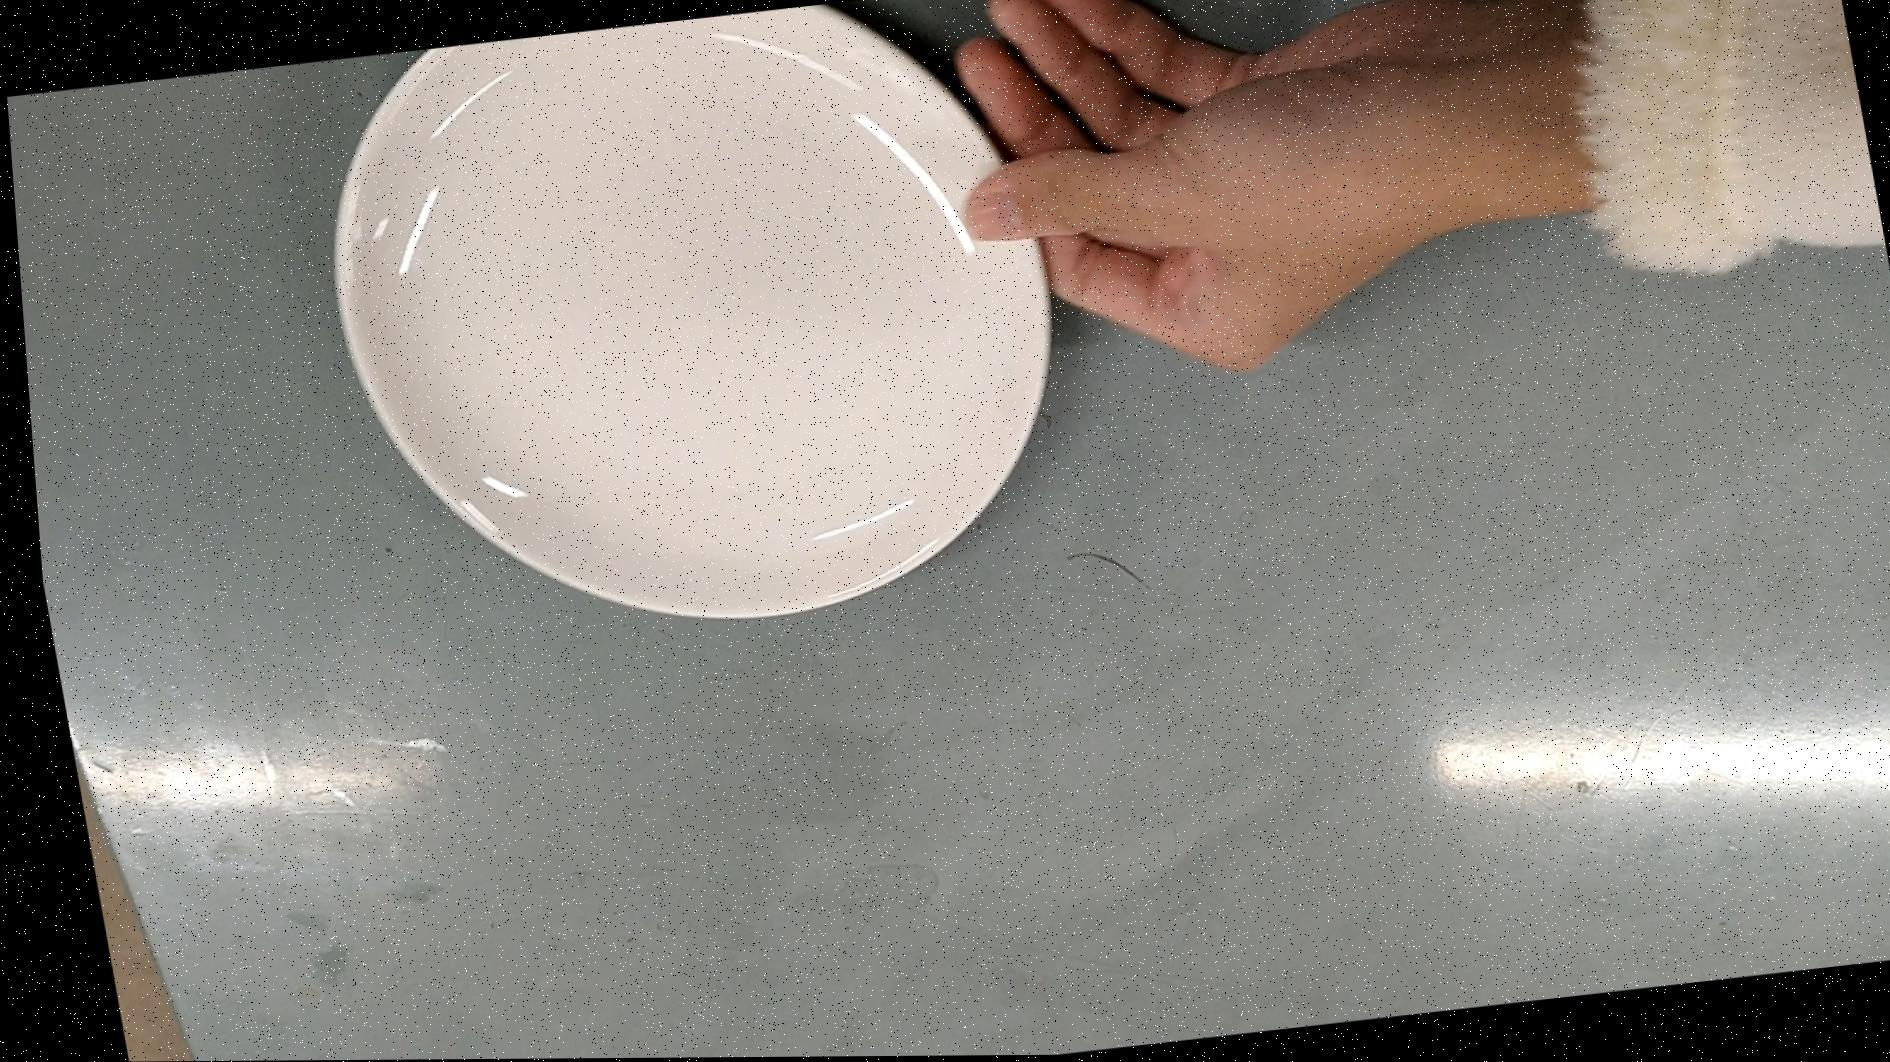plate: (288, 0, 1101, 662)
